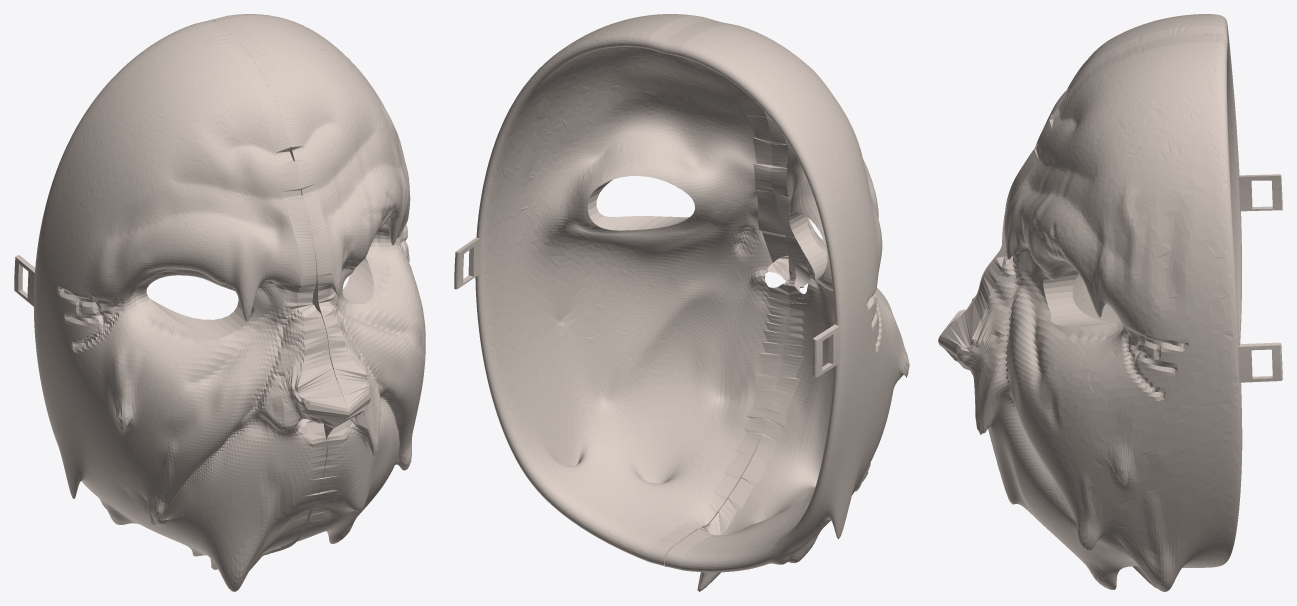
The model's file is mascara.glb.
The picture shows the model from 3 angles, left to right: view 1: azimuth 30°, elevation 25°; view 2: azimuth 150°, elevation 25°; view 3: azimuth 270°, elevation 25°; orthographic projection. The views are drawn at different scales.
Parts seen in each view (by area): view 1: mask; view 2: mask; view 3: mask.
Boxes of the visible parts, box(x1,y1,x2,y2) form: mask: box(14, 14, 425, 591); mask: box(454, 14, 909, 591); mask: box(938, 14, 1282, 591).
Size of the model in its own units: 0.1769 by 0.2627 by 0.1477.
